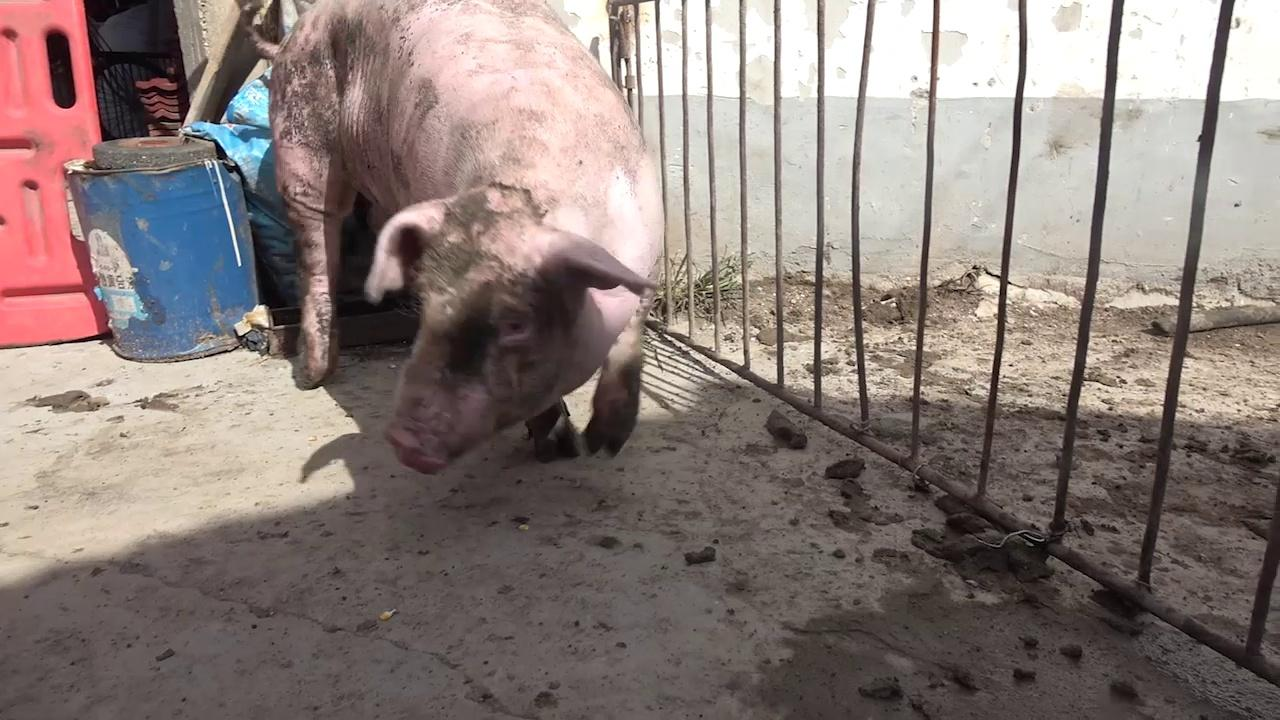Face: (356, 187, 656, 490)
